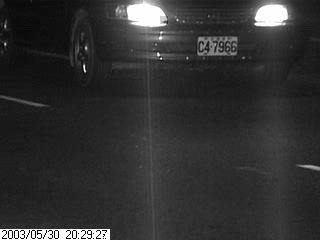plate: (195, 34, 241, 56)
